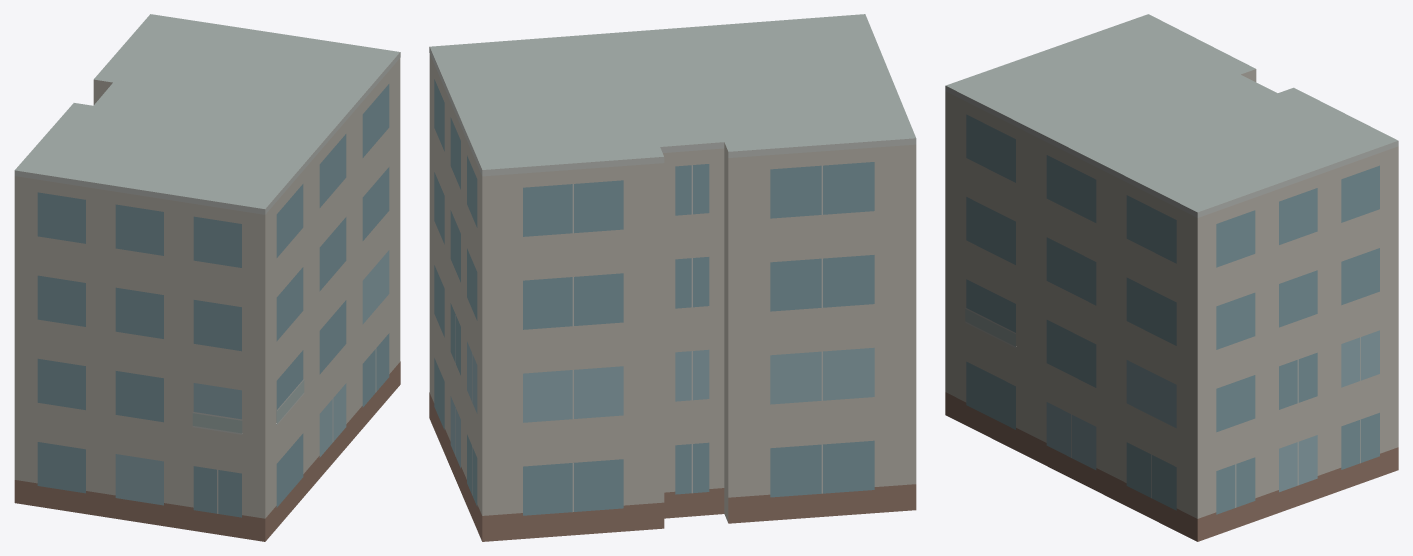
Rendered from survey-upis-32897625.glb.
3 renders of one model, left to right at view 1: azimuth 30°, elevation 25°; view 2: azimuth 150°, elevation 25°; view 3: azimuth 270°, elevation 25°, orthographic. The views are drawn at different scales.
Parts seen in each view (by area): view 1: survey-upis-32897625.tmp; view 2: survey-upis-32897625.tmp; view 3: survey-upis-32897625.tmp.
Boxes of the visible parts, x1=… form: survey-upis-32897625.tmp: x1=14, y1=14, x2=400, y2=541; survey-upis-32897625.tmp: x1=429, y1=14, x2=916, y2=541; survey-upis-32897625.tmp: x1=945, y1=14, x2=1398, y2=541.
Size of the model in its own units: 18.48 by 14.3 by 17.83.
